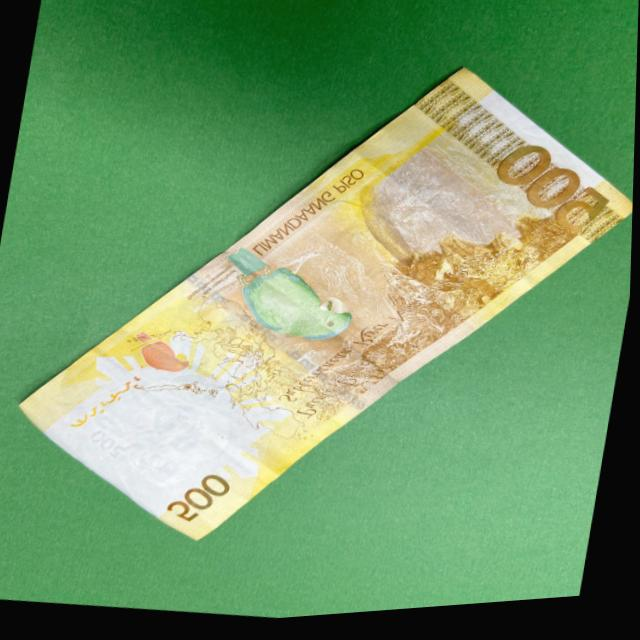security_thread: (185, 276, 375, 421)
see_through_mark: (63, 367, 152, 436)
value: (485, 143, 614, 255)
value_watermark: (88, 432, 131, 463)
watermark: (73, 349, 262, 508)
